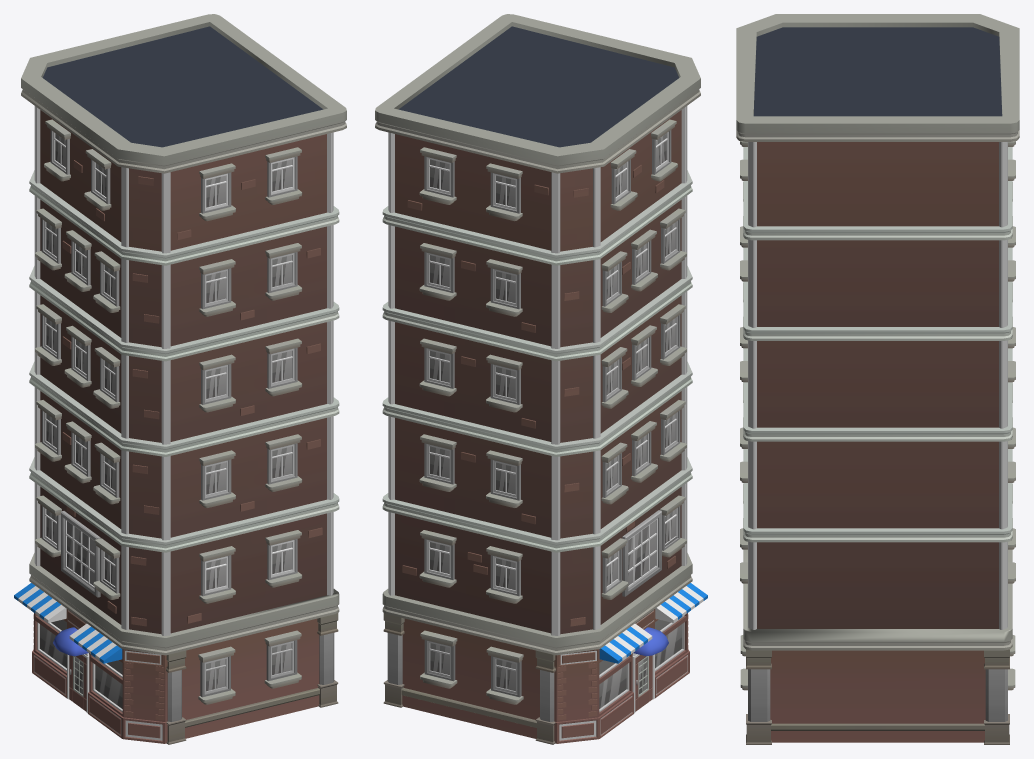
The model's file is Building_3_4_D.fbx.
3 renders of one model, left to right at view 1: azimuth 30°, elevation 25°; view 2: azimuth 150°, elevation 25°; view 3: azimuth 270°, elevation 25°, orthographic. The views are drawn at different scales.
Visible parts, largest first — view 1: Building 3_4_D; view 2: Building 3_4_D; view 3: Building 3_4_D.
Part boxes in pixels (x1,y1,x2,y2): Building 3_4_D: (14,14,346,744); Building 3_4_D: (375,14,707,744); Building 3_4_D: (736,14,1019,744).
Size of the model in its own units: 808 by 2041 by 837.
